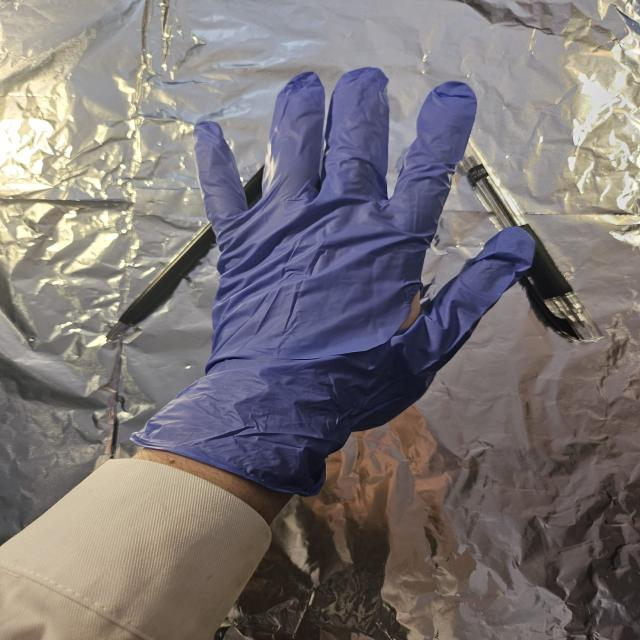gloves_damaged: (131, 67, 536, 500)
